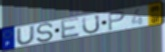4: (130, 7, 146, 27)
E: (60, 16, 81, 40)
P: (107, 10, 127, 32)
S: (36, 22, 55, 44)
U: (16, 25, 36, 46), (82, 13, 101, 35)
